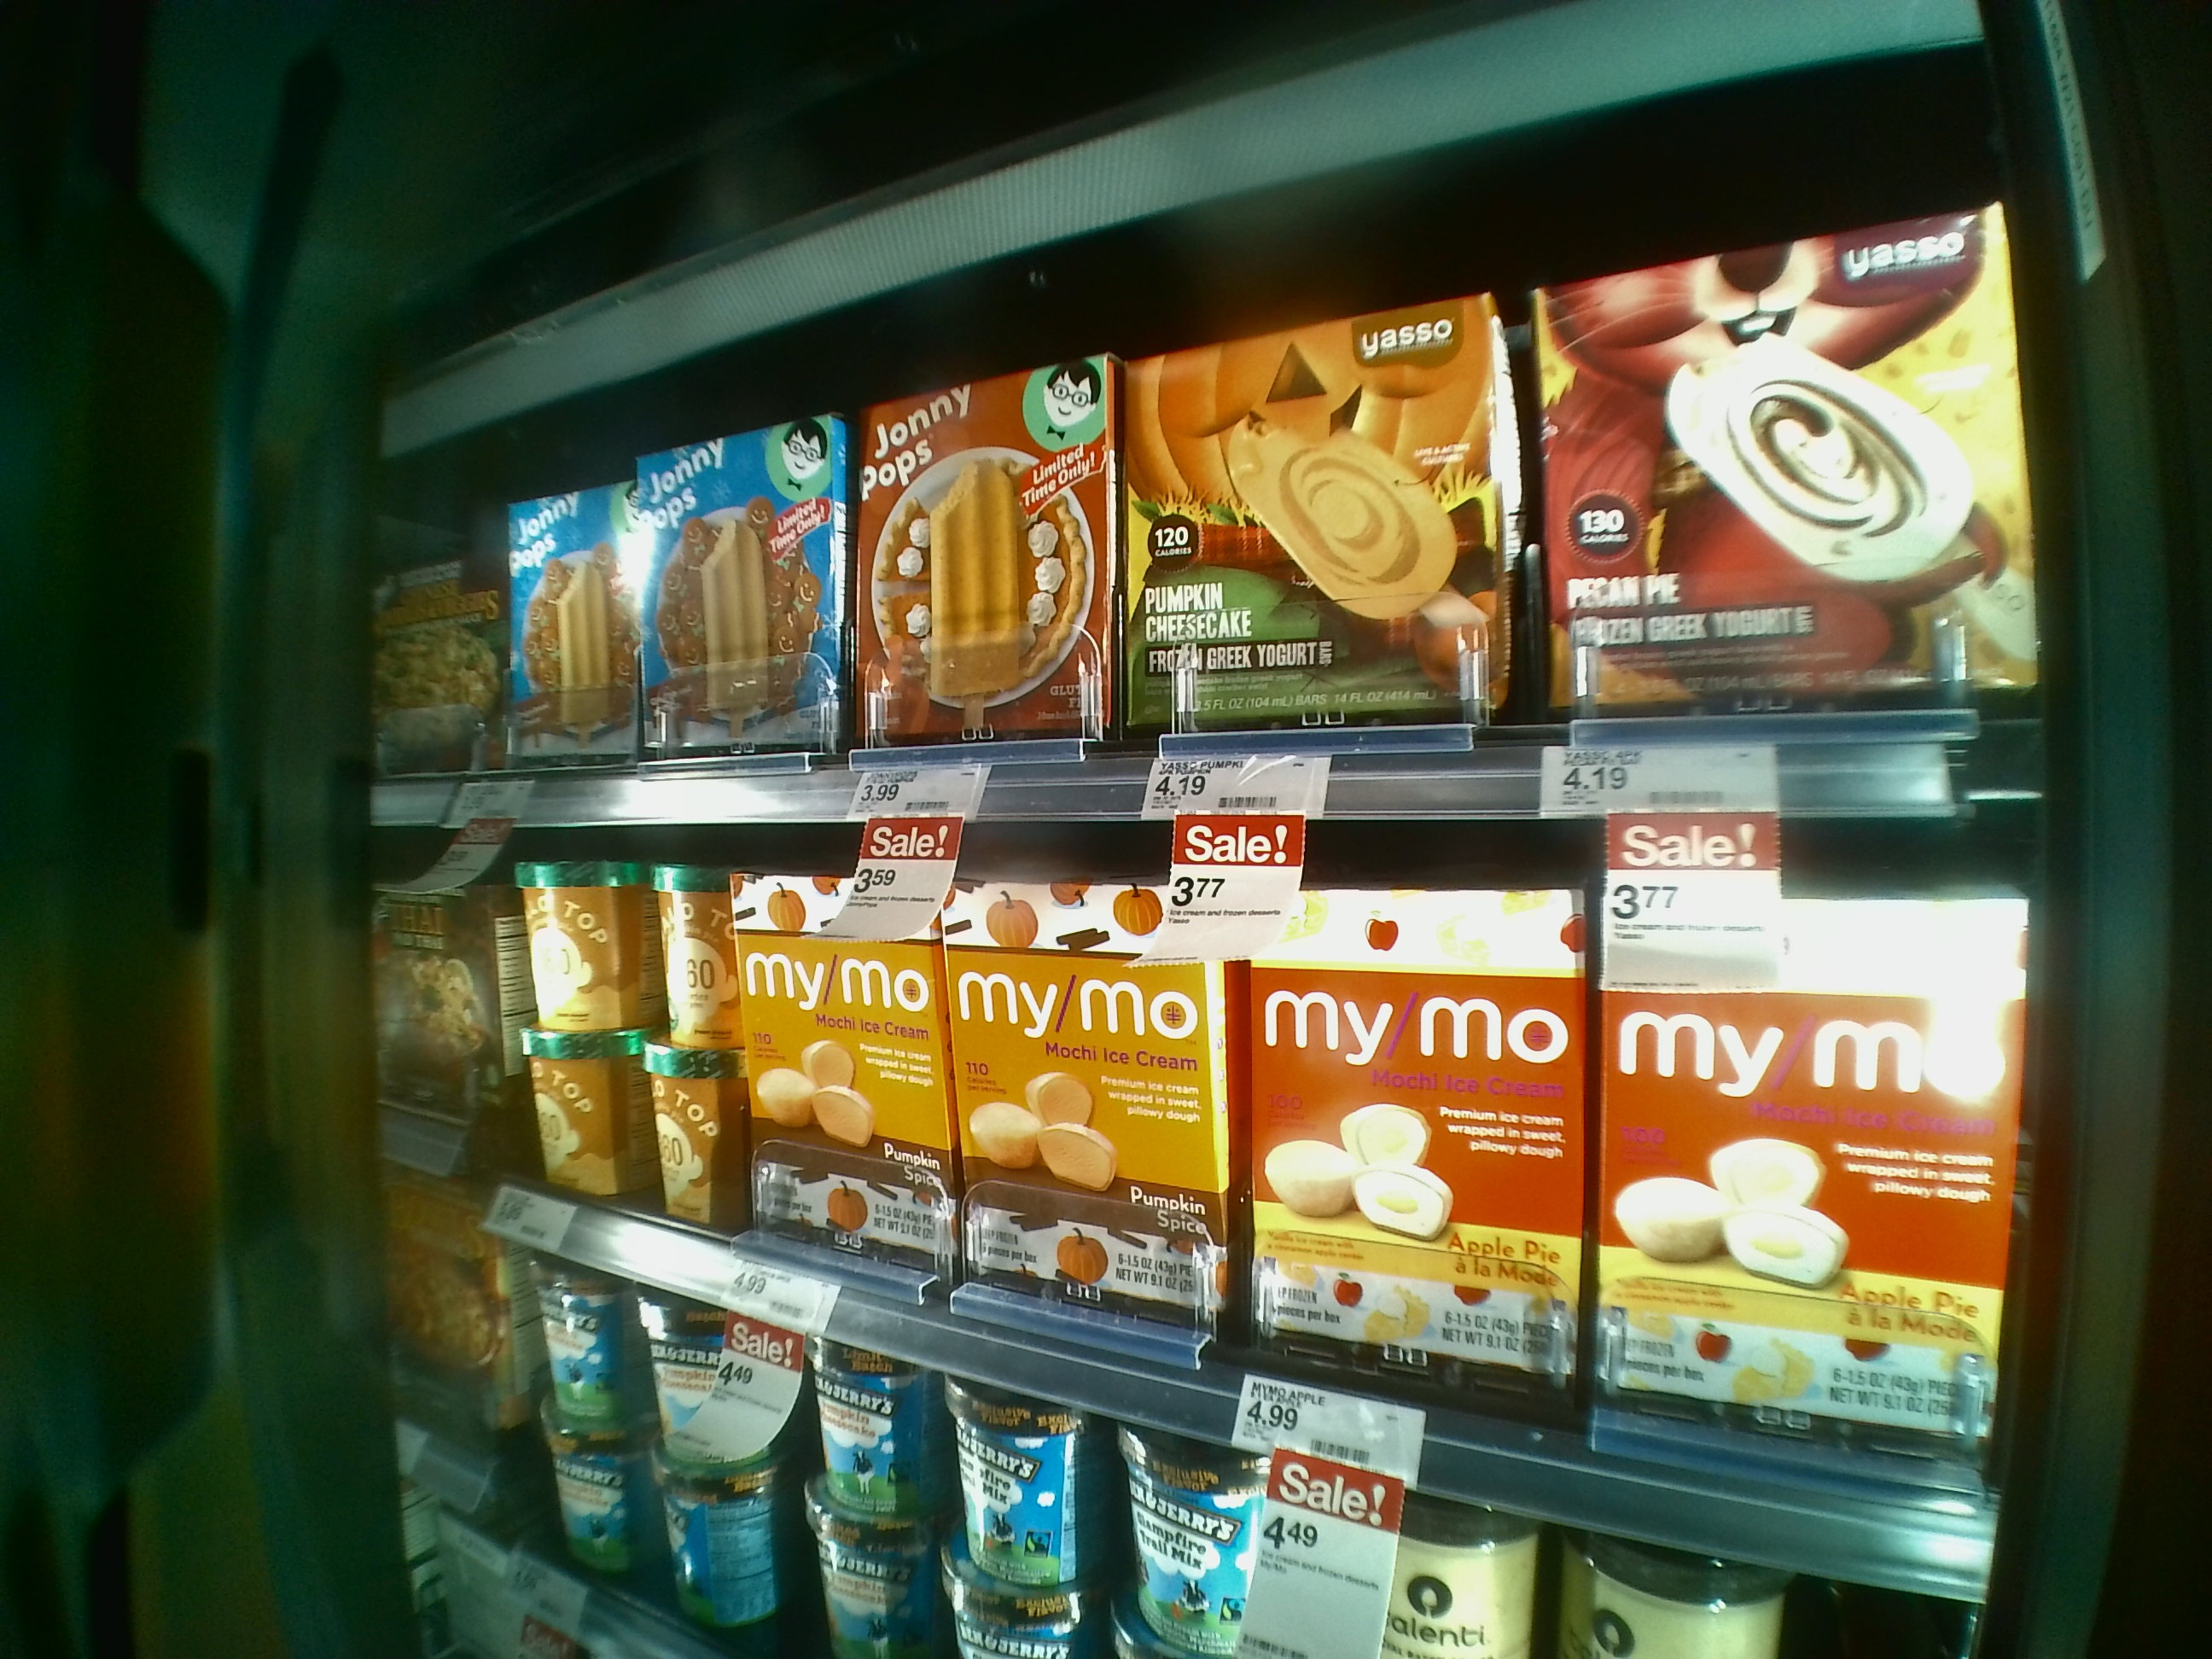shelf: (498, 788, 1996, 1565), (427, 329, 2013, 807)
